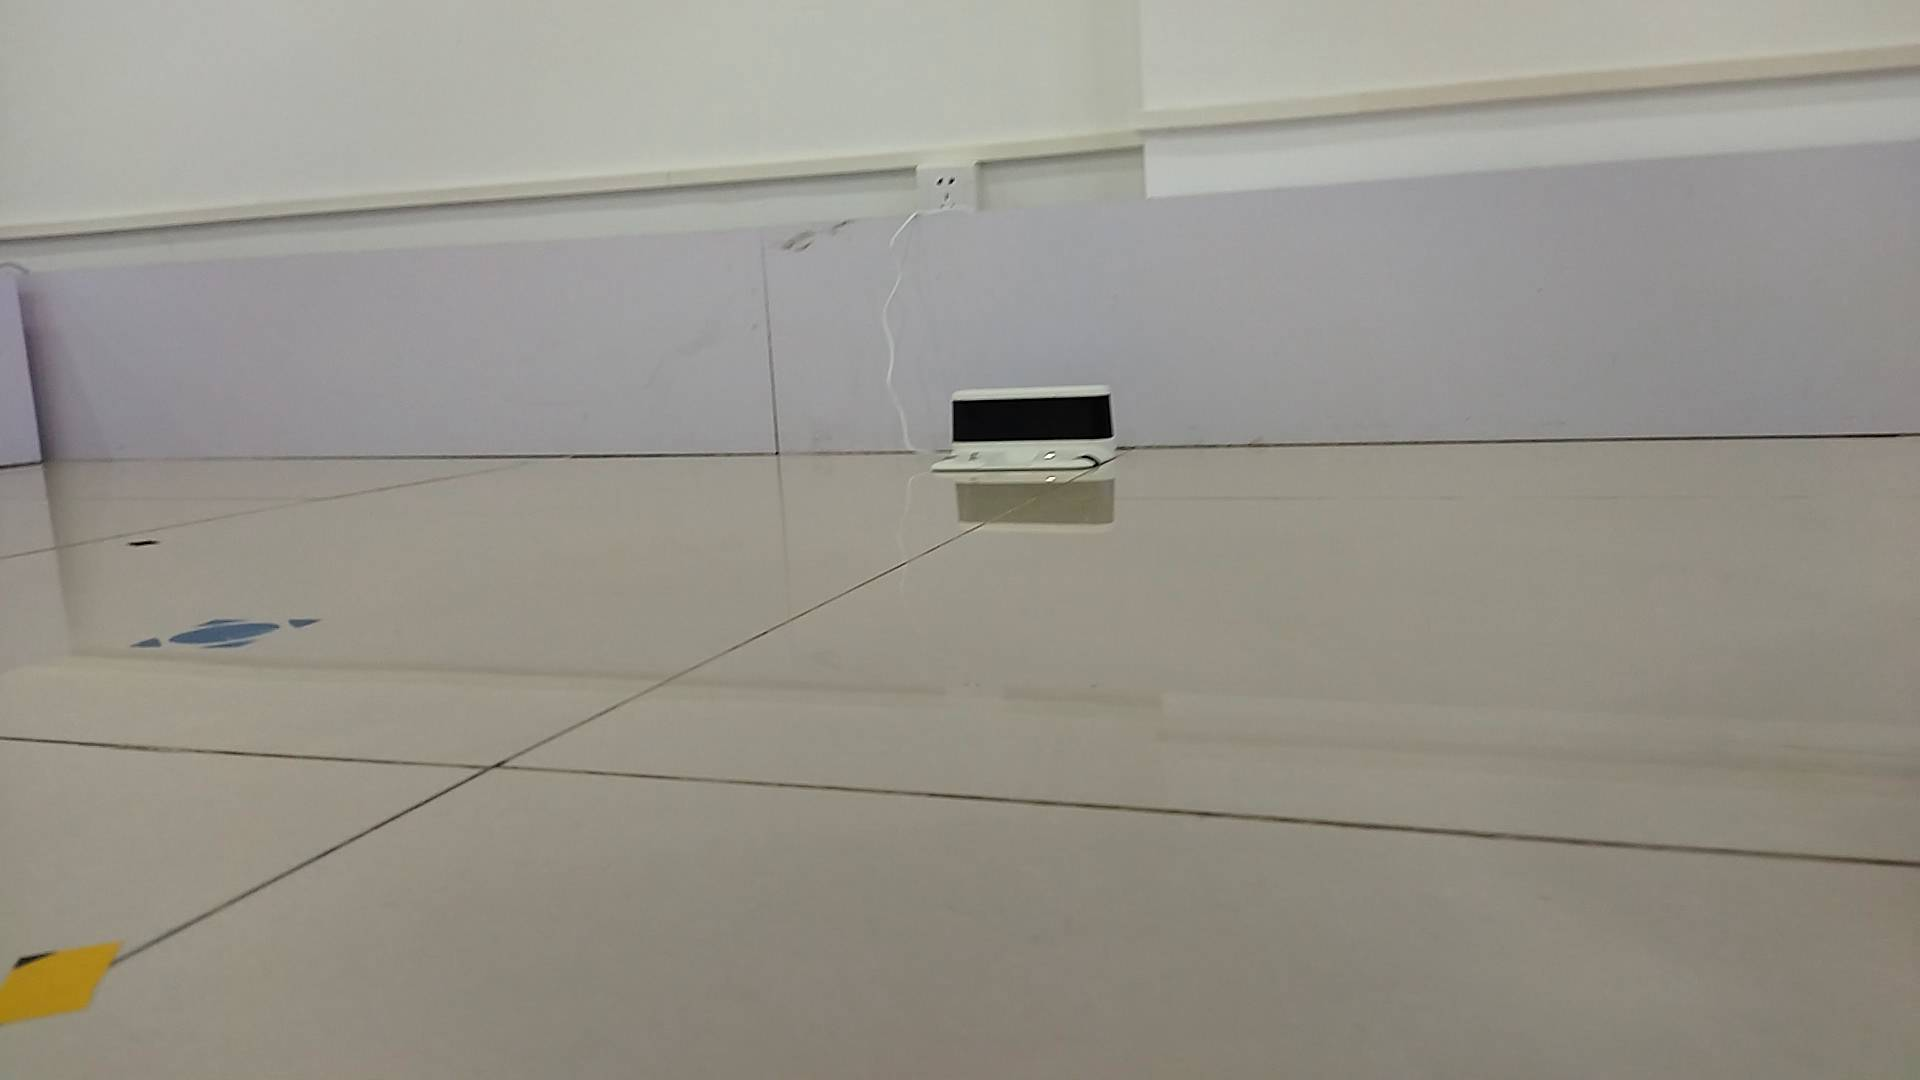recharge seat: (927, 386, 1122, 469)
